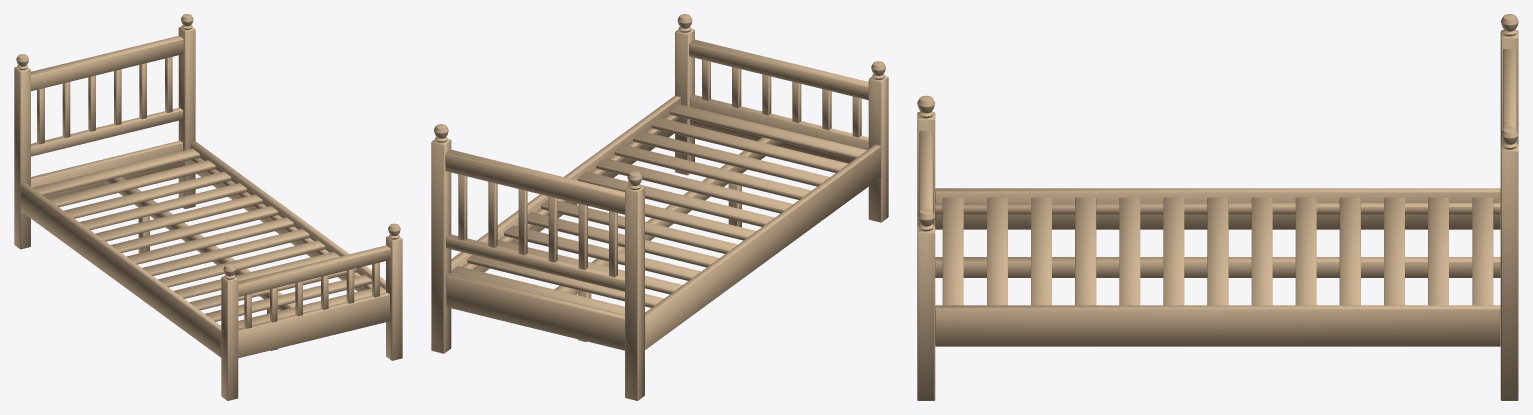
File: textiles_bed_frame.fbx
3 views of the same model, side by side, from view 1: azimuth 30°, elevation 25°; view 2: azimuth 150°, elevation 25°; view 3: azimuth 270°, elevation 25° (orthographic). The views are drawn at different scales.
Visible parts, largest first — view 1: textiles_bed_frame; view 2: textiles_bed_frame; view 3: textiles_bed_frame.
Part boxes in pixels (box(x1,y1,x2,y2)): textiles_bed_frame: box(14, 14, 402, 400); textiles_bed_frame: box(431, 14, 888, 400); textiles_bed_frame: box(917, 14, 1518, 400).
Bounding box in the file's own units: 0.95 × 0.988 × 2.
